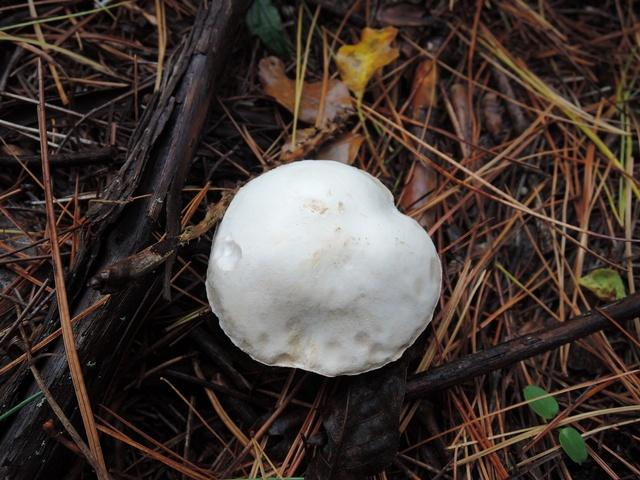Non-edible Mushroom: (203, 157, 443, 378)
